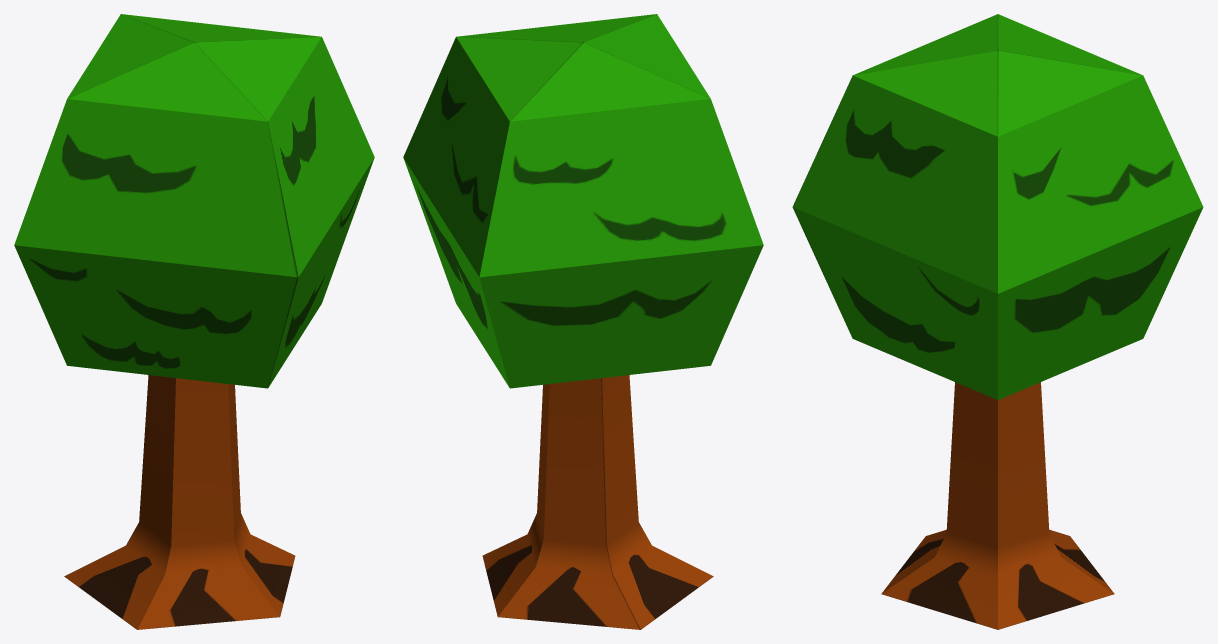
File: bigger_tree.fbx
The picture shows the model from 3 angles, left to right: view 1: azimuth 30°, elevation 25°; view 2: azimuth 150°, elevation 25°; view 3: azimuth 270°, elevation 25°; orthographic projection.
Visible parts, largest first — view 1: pCylinder4; view 2: pCylinder4; view 3: pCylinder4.
Boxes of the visible parts, <box> form: pCylinder4: <box>14,14,374,629</box>; pCylinder4: <box>403,14,763,629</box>; pCylinder4: <box>792,14,1203,629</box>.
Bounding box in the file's own units: 452 × 644 × 452.
